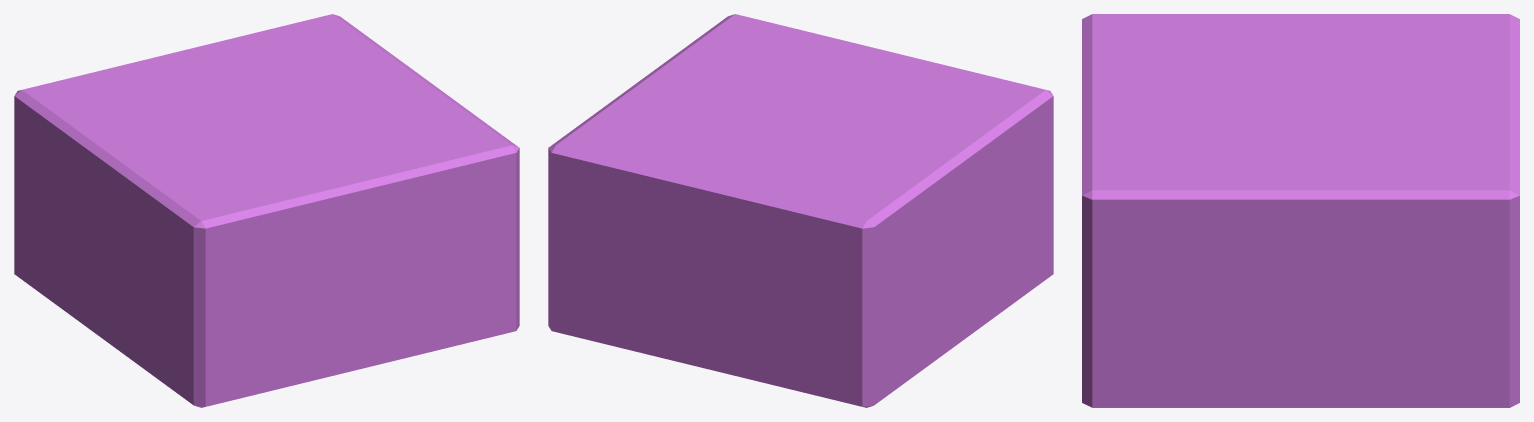
The picture shows the model from 3 angles, left to right: view 1: azimuth 30°, elevation 25°; view 2: azimuth 150°, elevation 25°; view 3: azimuth 270°, elevation 25°; orthographic projection. The views are drawn at different scales.
Parts seen in each view (by area): view 1: Cube; view 2: Cube; view 3: Cube.
Boxes of the visible parts, bbox=[...] form: Cube: bbox=[14, 14, 519, 407]; Cube: bbox=[548, 14, 1053, 407]; Cube: bbox=[1082, 14, 1519, 407].
Bounding box in the file's own units: 200 × 110 × 200.
